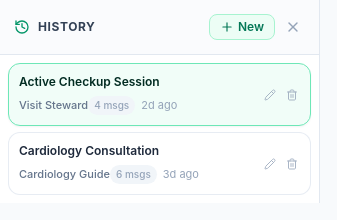
Test: SessionHistorySidebar Component › supports inline rename with Enter to save and Escape to cancel
Note: Click rename on first session
Click the button with test id "rename-session-thread-active-1" at (270, 94), box [260,84,280,104]
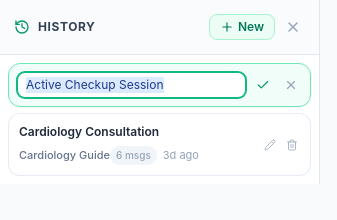
Check: the field with test id "rename-input-thread-active-1" is shown
Check: the field with test id "rename-input-thread-active-1" holds "Active Checkup Session"
Note: Change title and press Enter
Replace the text in the field with test id "rename-input-thread-active-1" with "Renamed Checkup Session" at (132, 85), box [17,72,246,98]
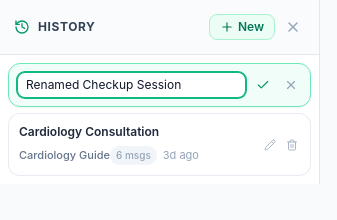
Press Enter in the field with test id "rename-input-thread-active-1", box [17,72,246,98]
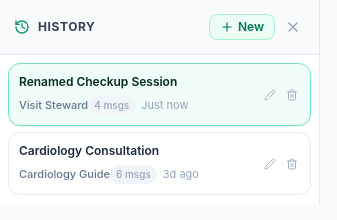
Check: the text "Renamed Checkup Session" is shown, box [19,74,177,90]
Note: Re-enter rename mode and press Escape to cancel
Click the button with test id "rename-session-thread-active-1" at (270, 94), box [260,84,280,104]
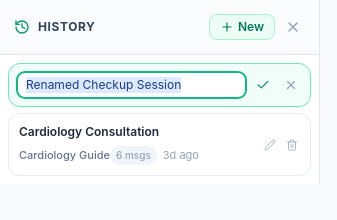
Replace the text in the field with test id "rename-input-thread-active-1" with "Abandoned Title" at (132, 85), box [17,72,246,98]
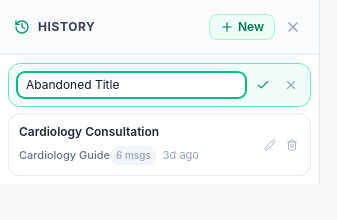
Press Escape in the field with test id "rename-input-thread-active-1", box [17,72,246,98]
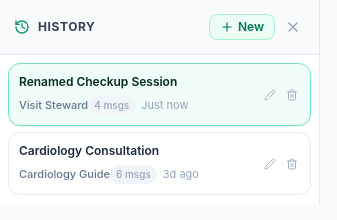
Check: the text "Abandoned Title" is not shown
Check: the text "Renamed Checkup Session" is shown, box [19,74,177,90]
